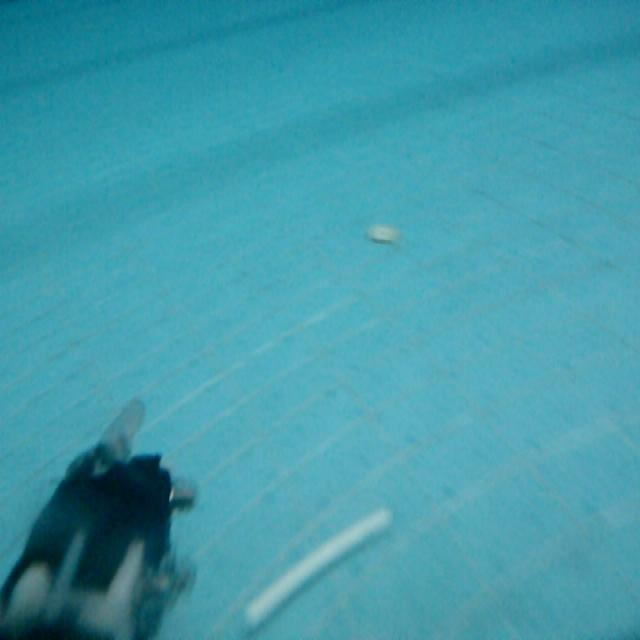Cube: (244, 508, 396, 626)
